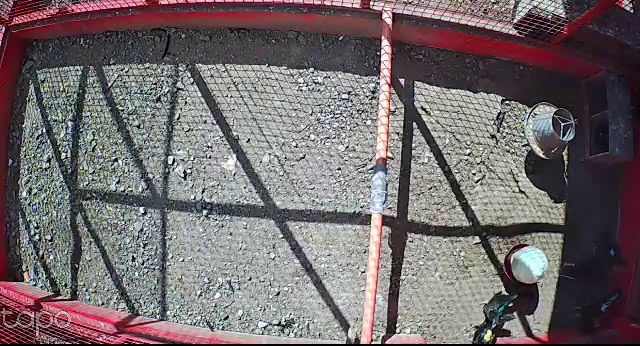Chicken: (467, 311, 514, 346), (482, 291, 519, 329)
Drinker: (501, 243, 548, 284)
Feeder: (523, 99, 584, 163)
Rooster: (568, 286, 623, 338)
Saddle_Color_Blue: (609, 247, 616, 255)
Saddle_Color_Yellow: (483, 329, 493, 341)
